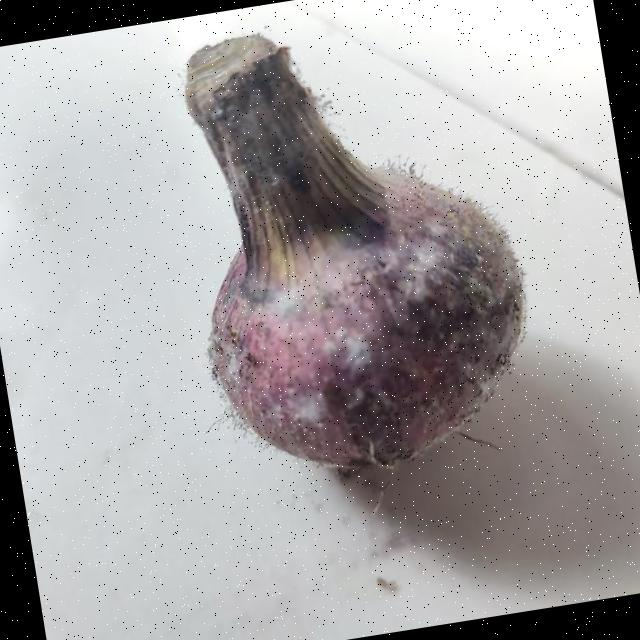Onion: (187, 34, 525, 469)
